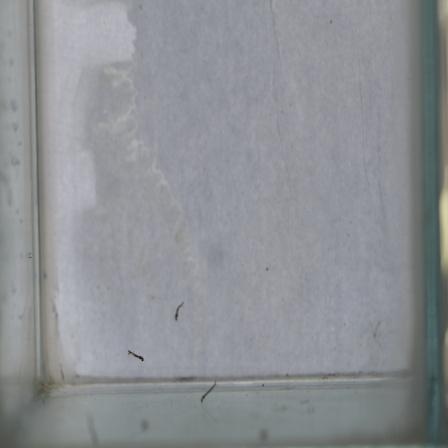Jentik-Nyamuk: (123, 342, 151, 369), (198, 377, 219, 402), (171, 298, 188, 325)
